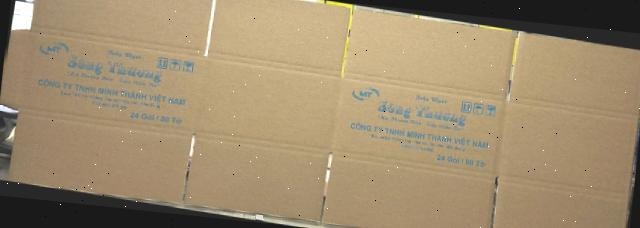box: (1, 0, 640, 228)
